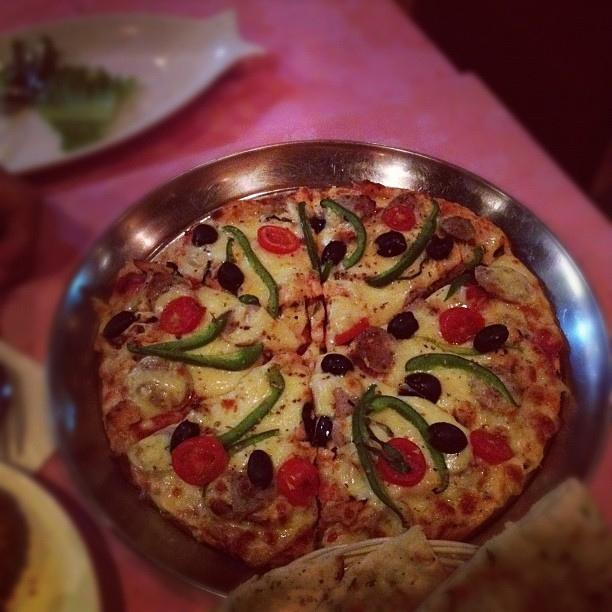bell pepper: (352, 384, 408, 528), (370, 395, 449, 494), (368, 198, 440, 288), (406, 353, 516, 404), (218, 366, 285, 448), (222, 226, 279, 320), (127, 340, 264, 372), (146, 310, 232, 352), (320, 199, 366, 269), (412, 335, 524, 356), (444, 245, 483, 302), (225, 428, 280, 458), (298, 200, 320, 272), (225, 238, 236, 263)
tomato: (171, 436, 229, 486), (378, 438, 426, 487), (276, 456, 320, 507), (160, 296, 205, 335), (439, 308, 485, 346), (470, 429, 514, 465), (256, 225, 300, 255), (333, 316, 370, 346), (384, 204, 416, 231)
